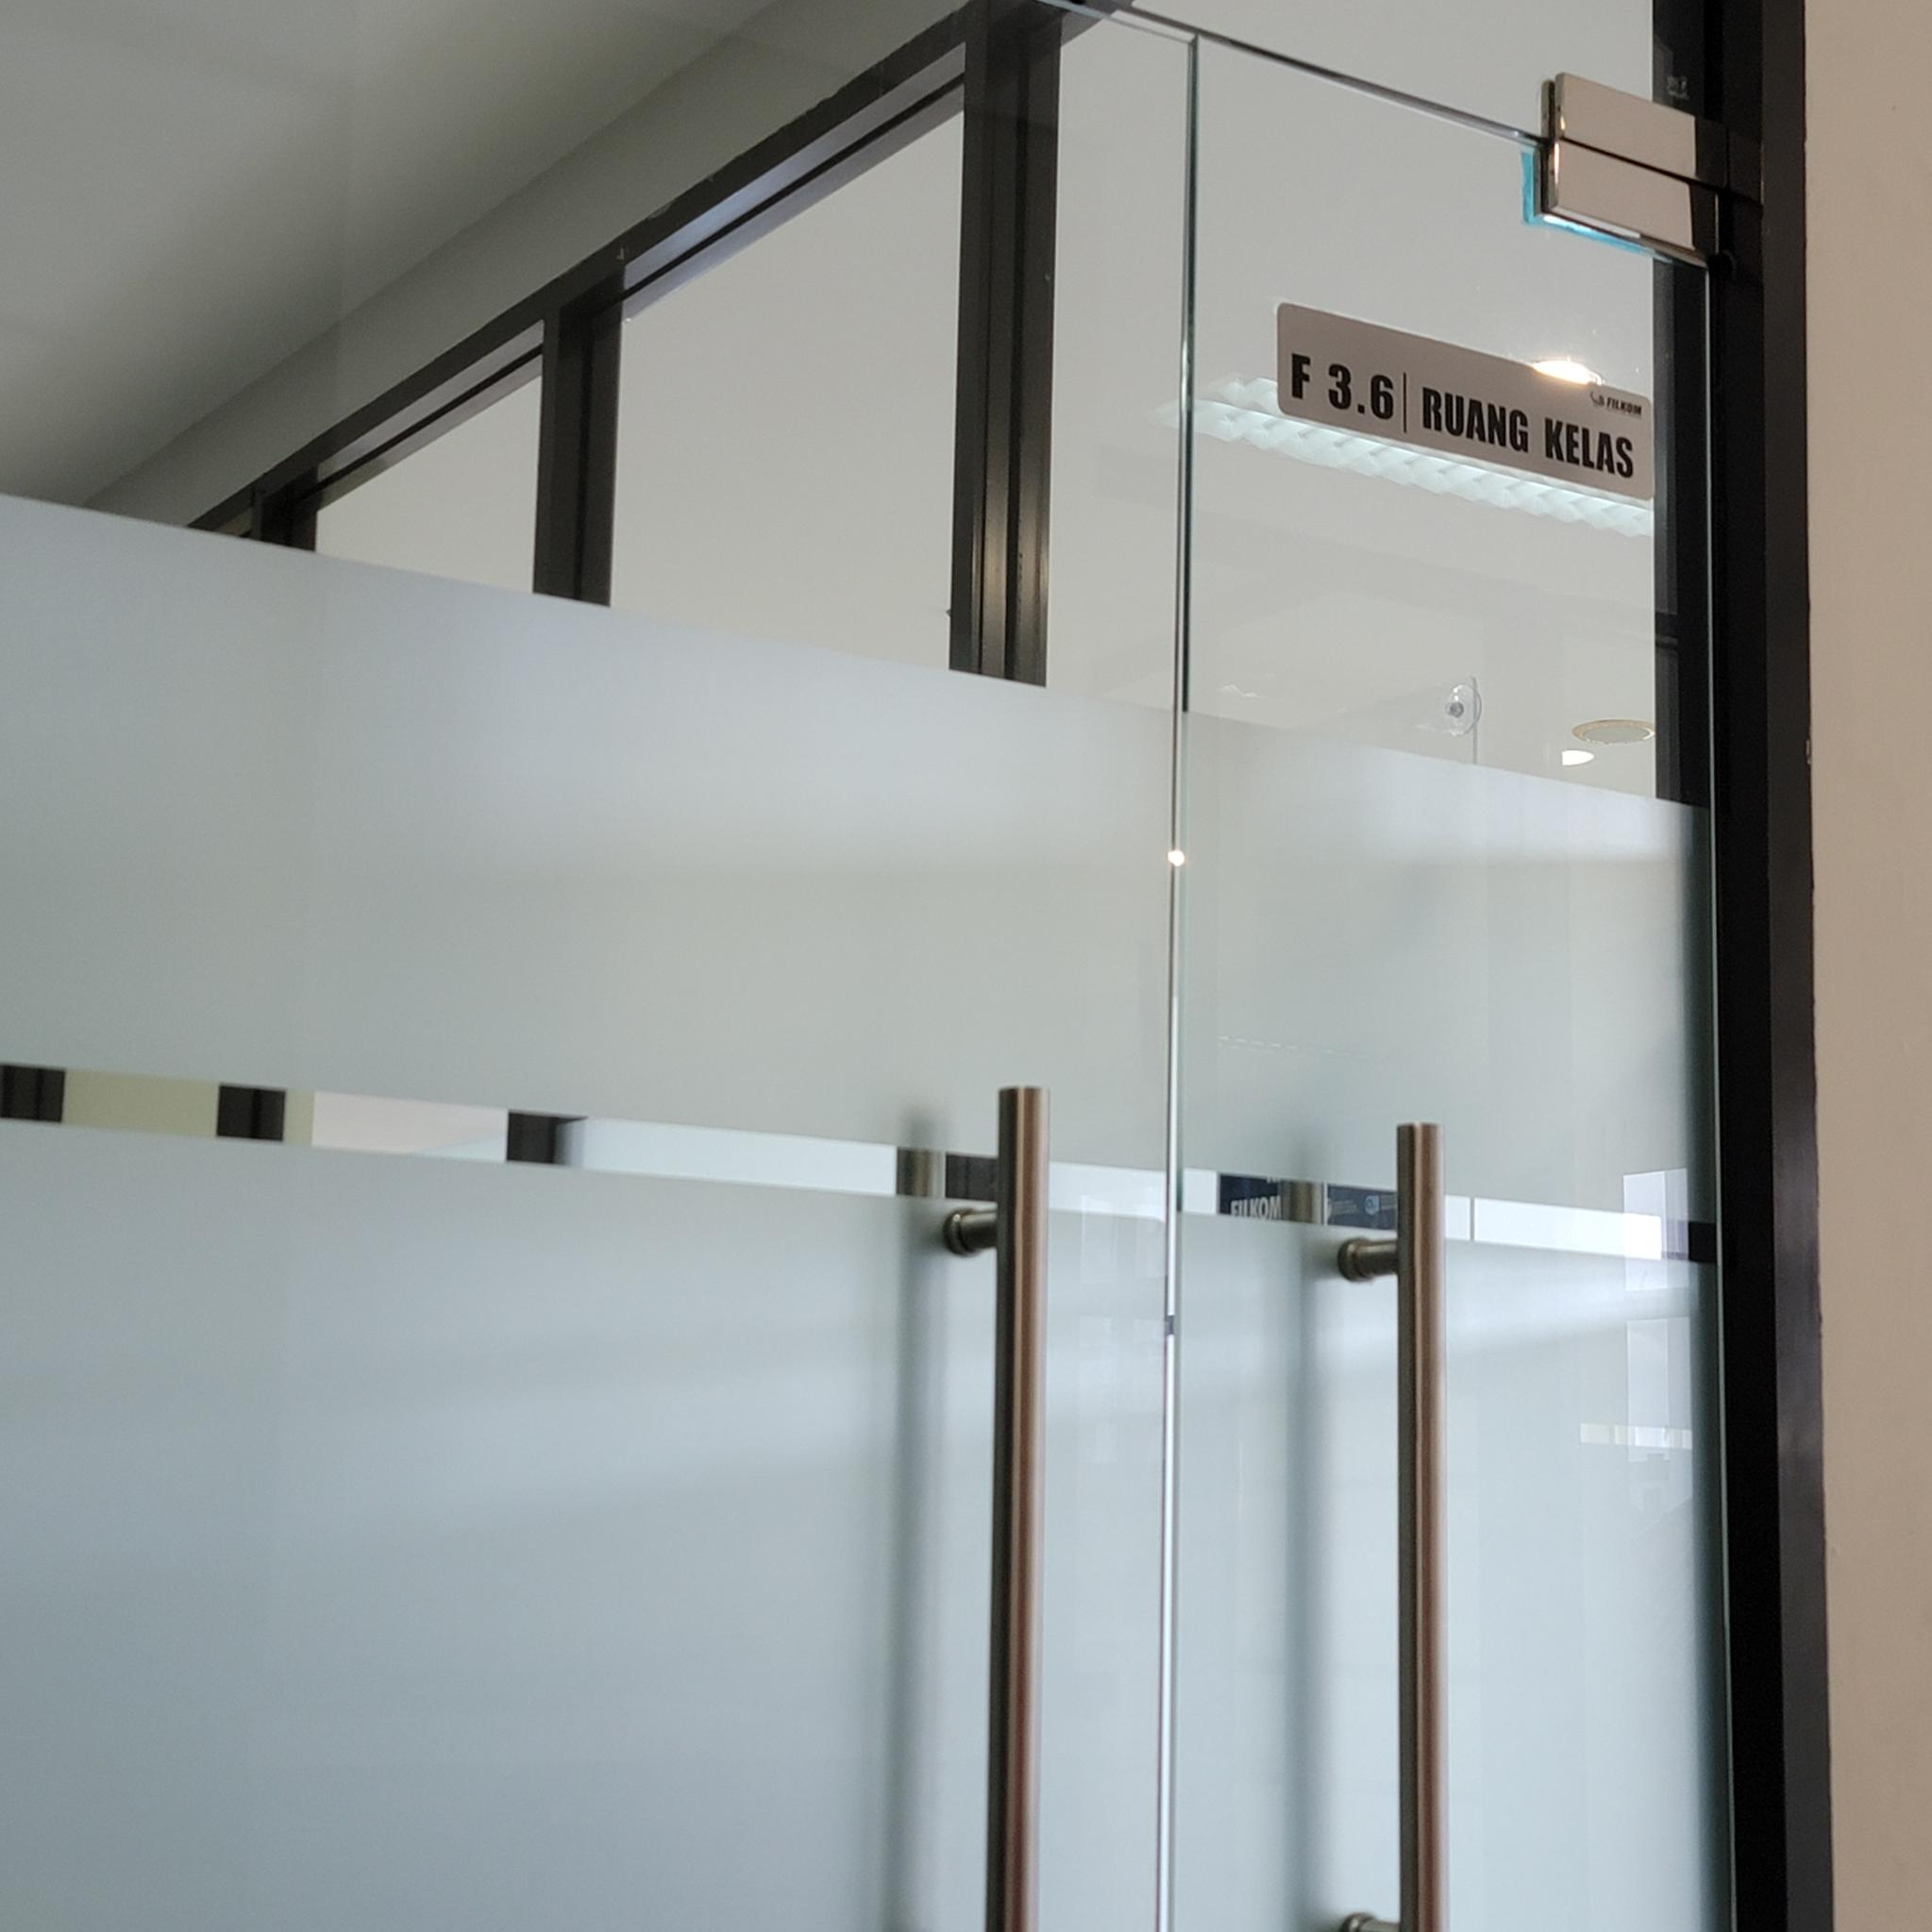plate: (1274, 303, 1656, 504)
